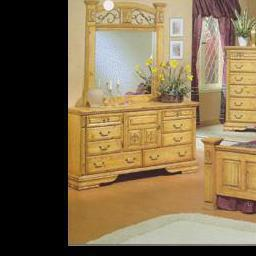Armario: (222, 48, 256, 131)
